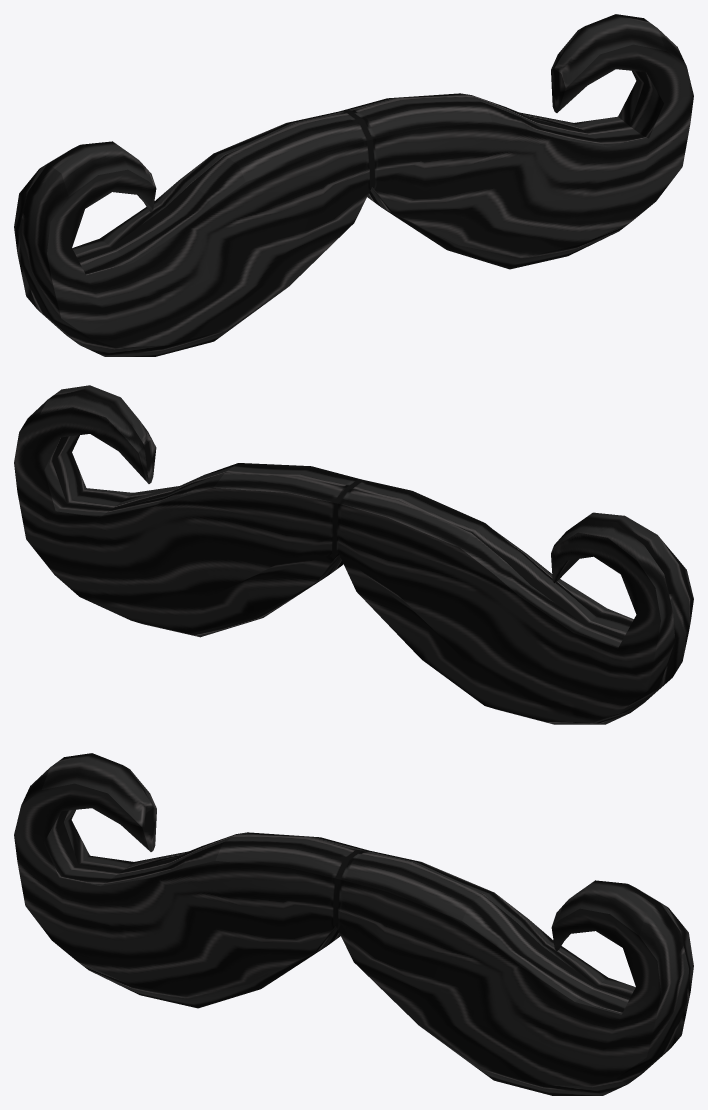
File: mustache_1.glb
3 views of the same model, one above another, from view 1: azimuth 30°, elevation 25°; view 2: azimuth 150°, elevation 25°; view 3: azimuth 330°, elevation 25° (orthographic).
Visible parts, largest first — view 1: Object_2; view 2: Object_2; view 3: Object_2.
Part boxes in pixels (x1,y1,x2,y2): Object_2: [14, 14, 693, 356]; Object_2: [14, 385, 693, 724]; Object_2: [14, 753, 693, 1095].
Size of the model in its own units: 2.78 by 0.8823 by 0.2731.
Materials: 1 (1 with a texture image).
